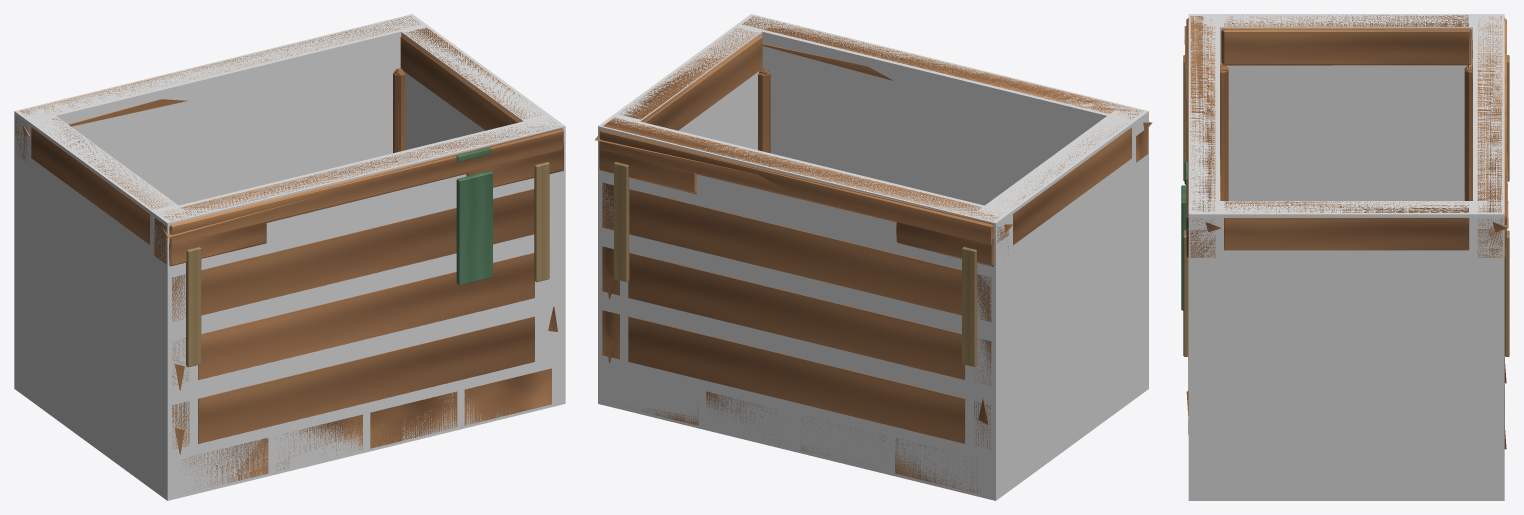
File: town_storage_open_crate_v01.fbx
3 renders of one model, left to right at view 1: azimuth 30°, elevation 25°; view 2: azimuth 150°, elevation 25°; view 3: azimuth 270°, elevation 25°, orthographic. The views are drawn at different scales.
Parts seen in each view (by area): view 1: LOD0_Static, COL_Back, COL_Front, COL_Left, COL_Floor, COL_Right, LOD2_Static, LOD1_Static; view 2: LOD0_Static, COL_Front, COL_Back, COL_Left, COL_Floor, COL_Right, LOD2_Static, LOD1_Static; view 3: COL_Right, COL_Left, LOD0_Static, COL_Back, COL_Floor, COL_Front, LOD2_Static, LOD1_Static.
Boxes of the visible parts, <box> form: LOD0_Static: <box>15,16,563,486</box>; COL_Back: <box>14,14,427,360</box>; COL_Front: <box>152,115,565,461</box>; COL_Left: <box>22,113,184,453</box>; COL_Floor: <box>14,347,565,500</box>; COL_Right: <box>397,21,549,150</box>; LOD2_Static: <box>22,34,557,454</box>; LOD1_Static: <box>169,34,563,396</box>; LOD0_Static: <box>599,16,1148,494</box>; COL_Front: <box>736,14,1148,354</box>; COL_Back: <box>598,115,1011,461</box>; COL_Left: <box>977,110,1139,455</box>; COL_Floor: <box>598,347,1148,500</box>; COL_Right: <box>613,20,768,149</box>; LOD2_Static: <box>595,43,1152,424</box>; LOD1_Static: <box>599,34,993,437</box>; COL_Right: <box>1204,201,1488,460</box>; COL_Left: <box>1204,14,1488,200</box>; LOD0_Static: <box>1181,15,1509,433</box>; COL_Back: <box>1473,14,1504,460</box>; COL_Floor: <box>1188,458,1504,500</box>; COL_Front: <box>1188,14,1219,460</box>; LOD2_Static: <box>1184,26,1508,449</box>; LOD1_Static: <box>1186,17,1506,258</box>.
Bounding box in the file's own units: 0.7556 × 0.5 × 0.5195.
Materials: 3 (3 with a texture image).
